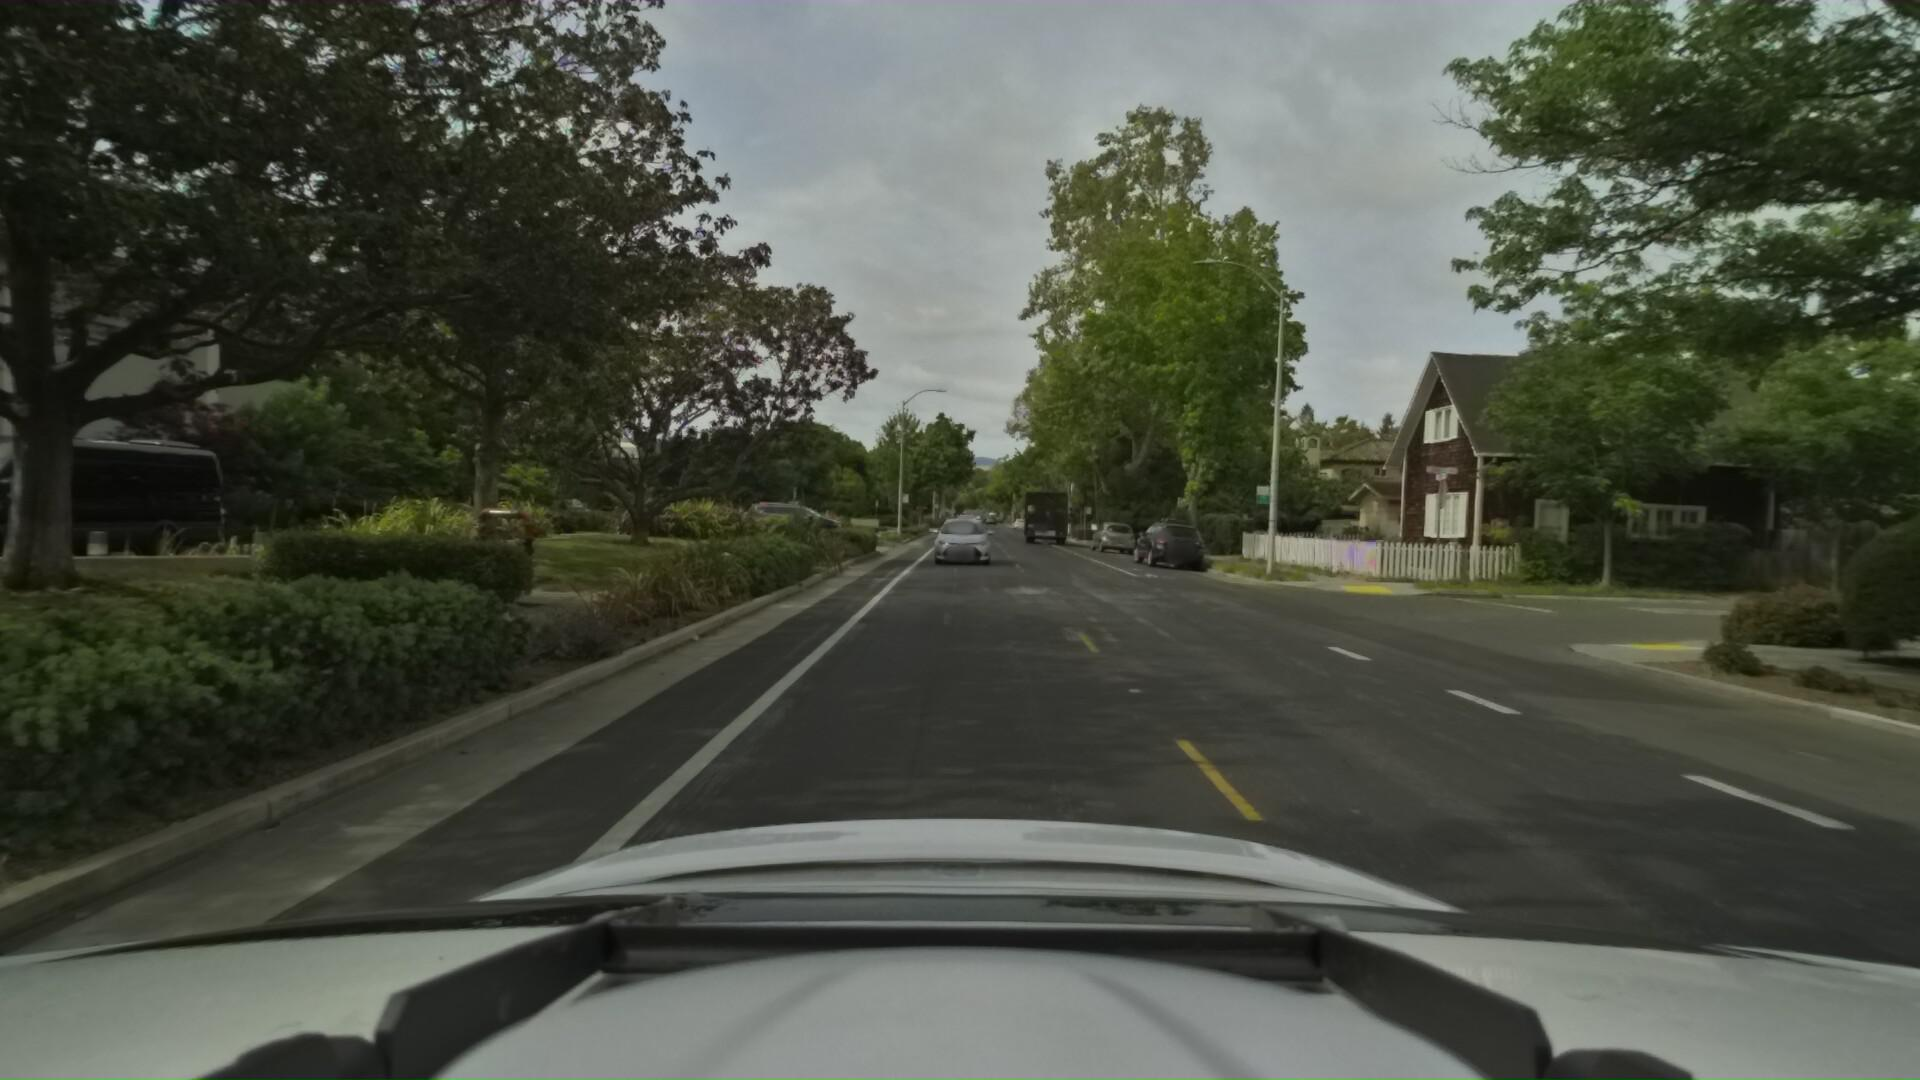car: (0, 413, 257, 574), (1122, 513, 1209, 568), (749, 501, 847, 537), (928, 512, 990, 562), (1084, 517, 1135, 553)
truck: (1018, 485, 1067, 543)
